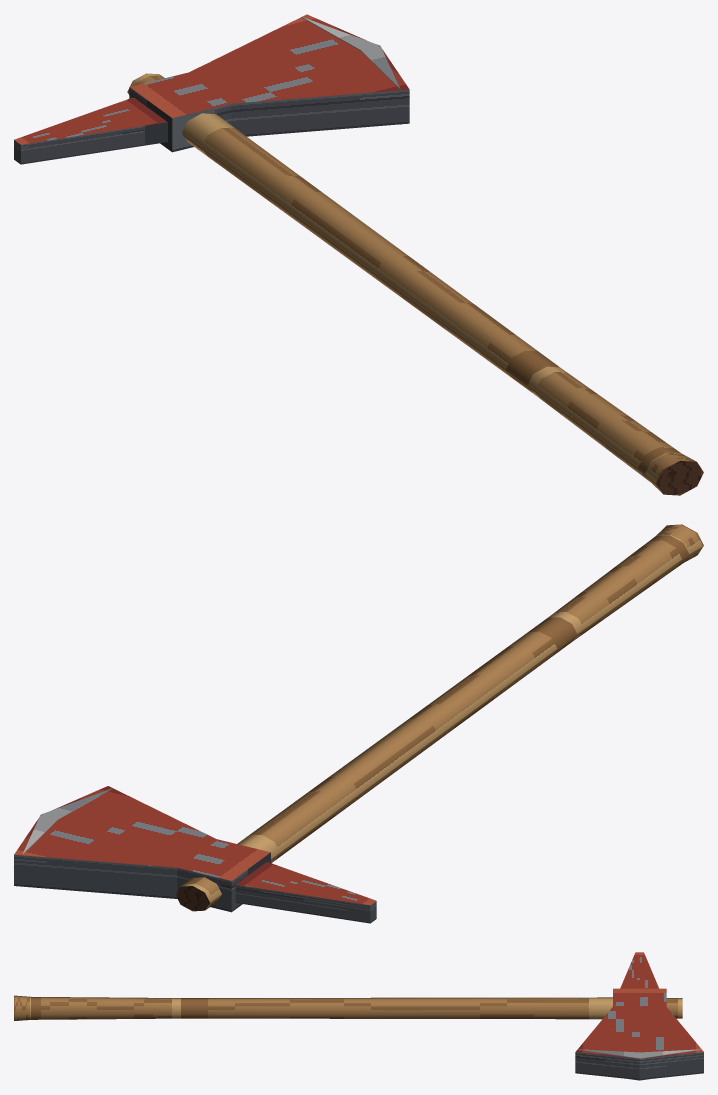
Rendered from INV_FireAxe.glb.
3 renders of one model, top to bottom at view 1: azimuth 30°, elevation 25°; view 2: azimuth 150°, elevation 25°; view 3: azimuth 270°, elevation 25°, orthographic. The views are drawn at different scales.
Visible parts, largest first — view 1: INV_FireAxe_Mesh; view 2: INV_FireAxe_Mesh; view 3: INV_FireAxe_Mesh.
Boxes of the visible parts, bbox=[...] form: INV_FireAxe_Mesh: bbox=[14, 14, 703, 495]; INV_FireAxe_Mesh: bbox=[14, 524, 703, 923]; INV_FireAxe_Mesh: bbox=[14, 952, 703, 1080].
Size of what is drawn, in the model's own units: 0.3063 by 0.0288 by 0.805.
1 material, 1 textured.
